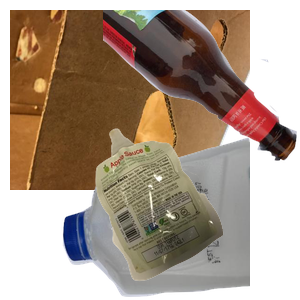cardboard: (10, 10, 250, 190)
glass: (103, 10, 300, 163)
plastic: (60, 135, 300, 300)
trash: (93, 126, 300, 300)
